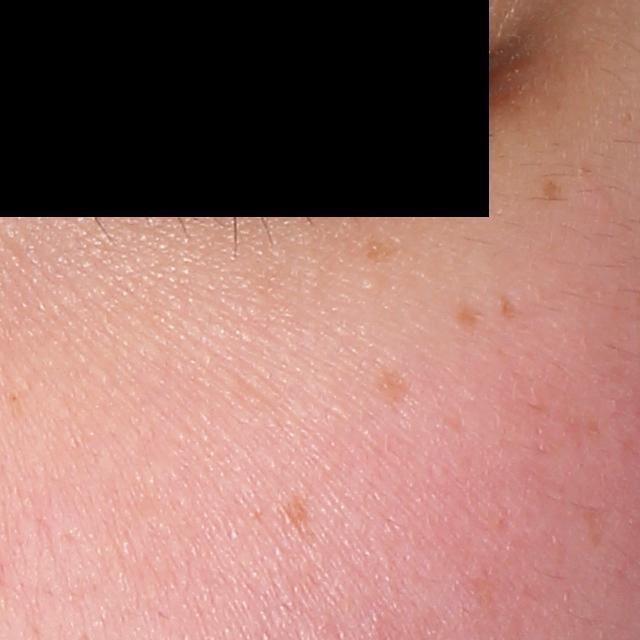melasma: (549, 411, 603, 457), (367, 368, 414, 414), (359, 236, 408, 267), (285, 503, 315, 533), (493, 295, 514, 324), (540, 178, 560, 203)
